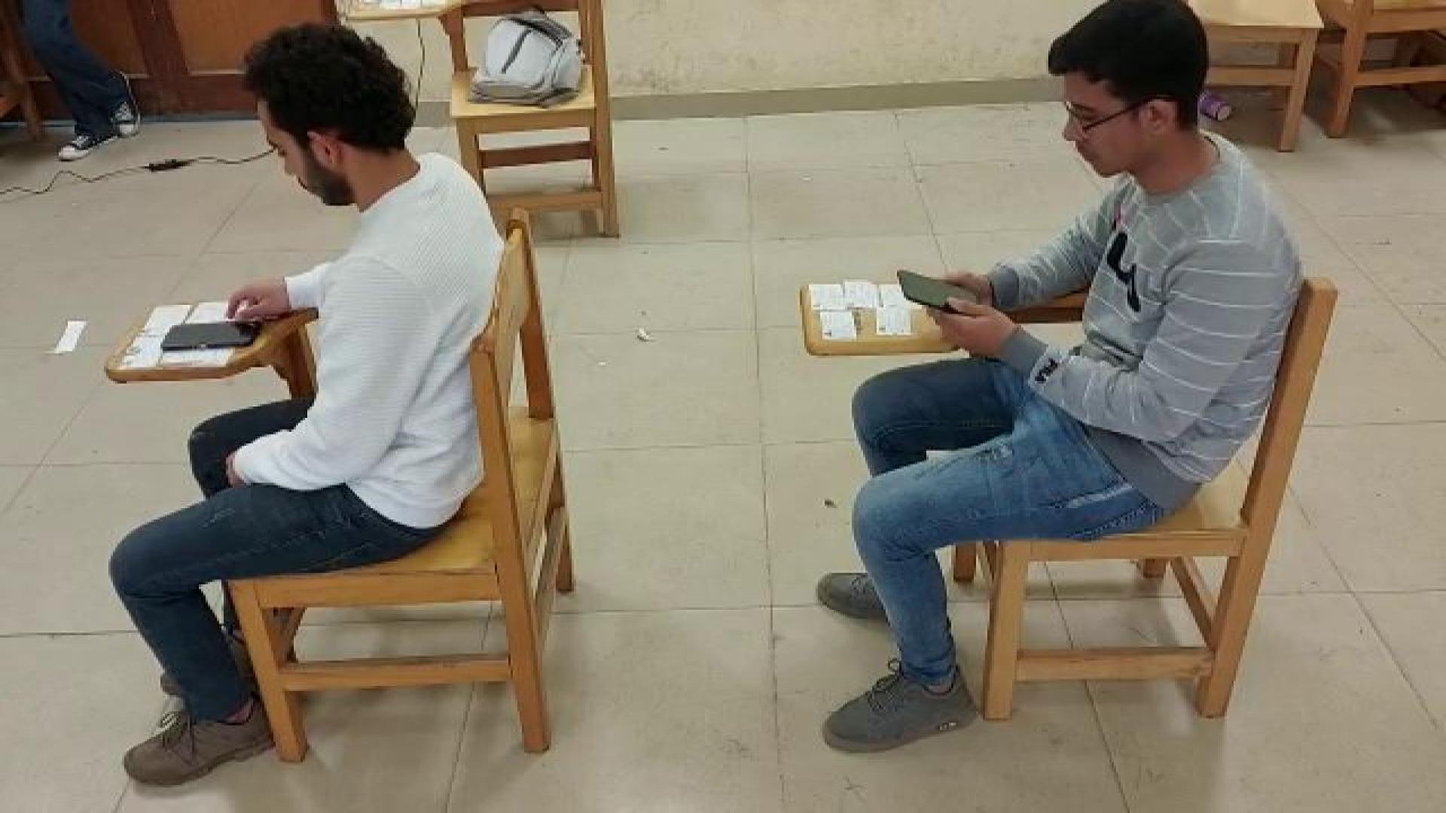phone: (158, 318, 258, 349), (897, 268, 976, 307)
